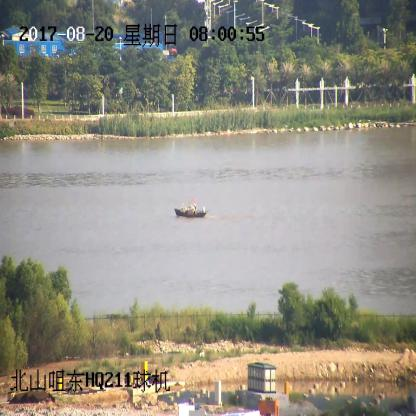Fishing Boat: (175, 197, 206, 219)
